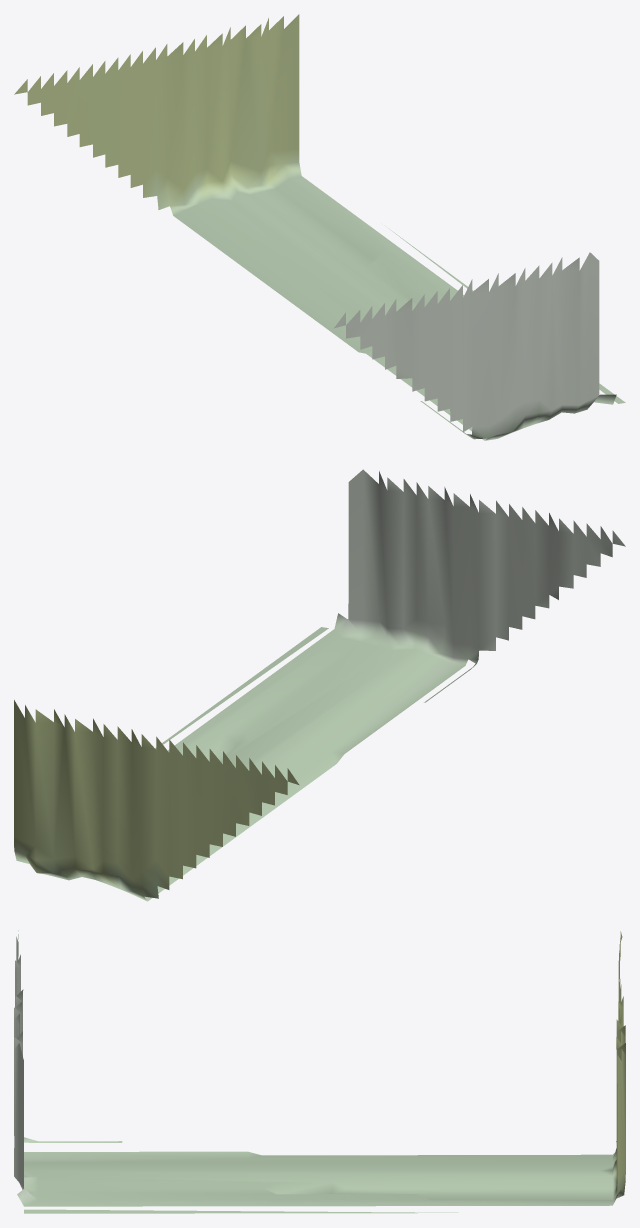
Rendered from tile_7e4ccbd5fe0e_0_0_-2_0_lod2.glb.
3 renders of one model, top to bottom at view 1: azimuth 30°, elevation 25°; view 2: azimuth 150°, elevation 25°; view 3: azimuth 270°, elevation 25°, orthographic. The views are drawn at different scales.
Size of the model in its own units: 1.84 by 1.01 by 3.49.
